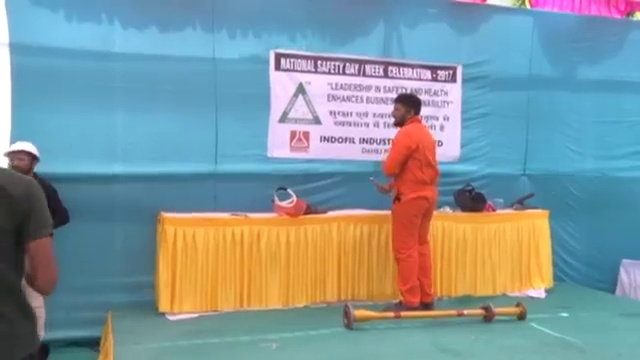helmet: (1, 140, 41, 164)
helmet_off: (389, 92, 423, 128)
helmet_on: (1, 140, 41, 175)
person: (1, 142, 69, 360), (382, 91, 445, 310)
